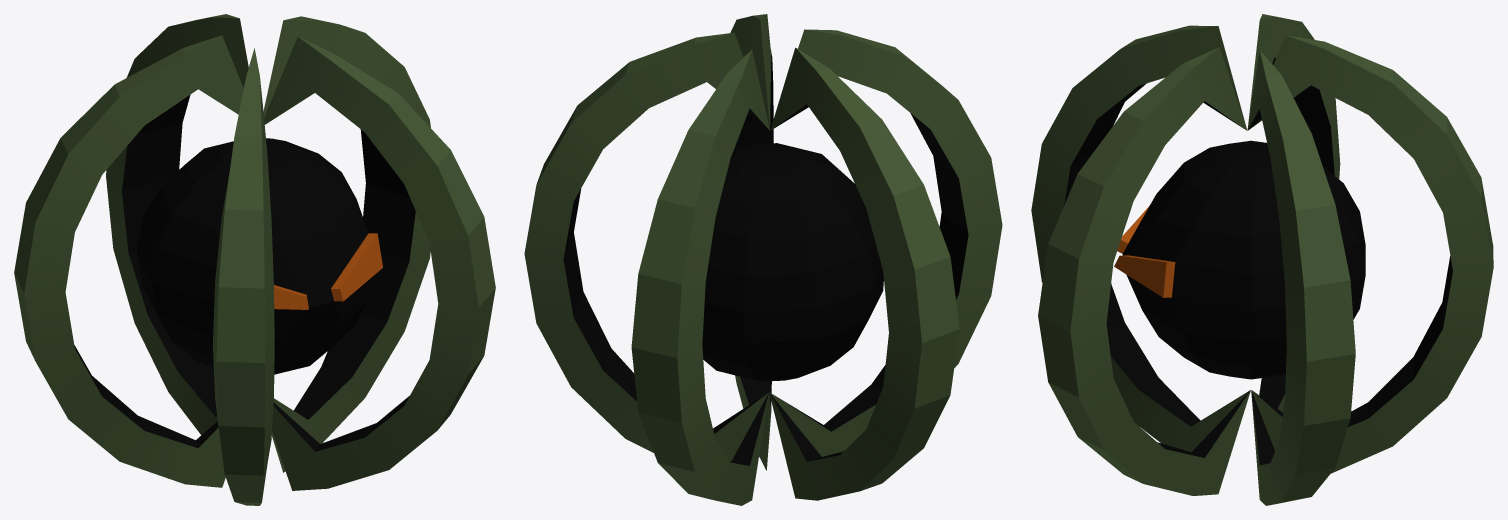
File: charNmy_Charger.fbx
3 renders of one model, left to right at view 1: azimuth 30°, elevation 25°; view 2: azimuth 150°, elevation 25°; view 3: azimuth 270°, elevation 25°, orthographic.
Parts seen in each view (by area): view 1: charNmy_chargerShell, charNmy_chargerHead; view 2: charNmy_chargerShell, charNmy_chargerHead; view 3: charNmy_chargerShell, charNmy_chargerHead.
Part boxes in pixels (<box>): charNmy_chargerShell: <box>14,14,495,505</box>; charNmy_chargerHead: <box>136,138,382,374</box>; charNmy_chargerShell: <box>524,14,1002,505</box>; charNmy_chargerHead: <box>702,143,883,381</box>; charNmy_chargerShell: <box>1031,14,1493,505</box>; charNmy_chargerHead: <box>1114,140,1365,379</box>.
Size of the model in its own units: 2.34 by 2.4 by 2.23.
